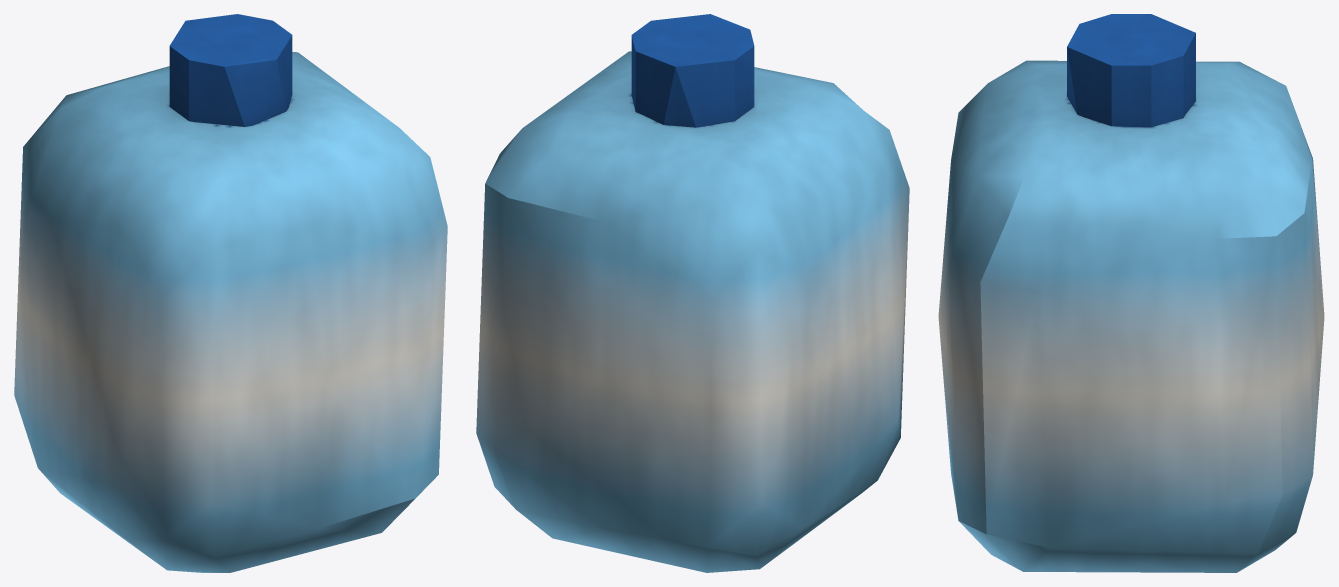
The model's file is Item_WaterJug.fbx.
3 renders of one model, left to right at view 1: azimuth 30°, elevation 25°; view 2: azimuth 150°, elevation 25°; view 3: azimuth 270°, elevation 25°, orthographic. The views are drawn at different scales.
Parts seen in each view (by area): view 1: Item_WaterJug; view 2: Item_WaterJug; view 3: Item_WaterJug.
Boxes of the visible parts, box(x1,y1,x2,y2) form: Item_WaterJug: box(14, 14, 447, 572); Item_WaterJug: box(476, 14, 909, 572); Item_WaterJug: box(938, 14, 1324, 572).
Bounding box in the file's own units: 0.2353 × 0.3394 × 0.24.
Materials: 1 (1 with a texture image).
